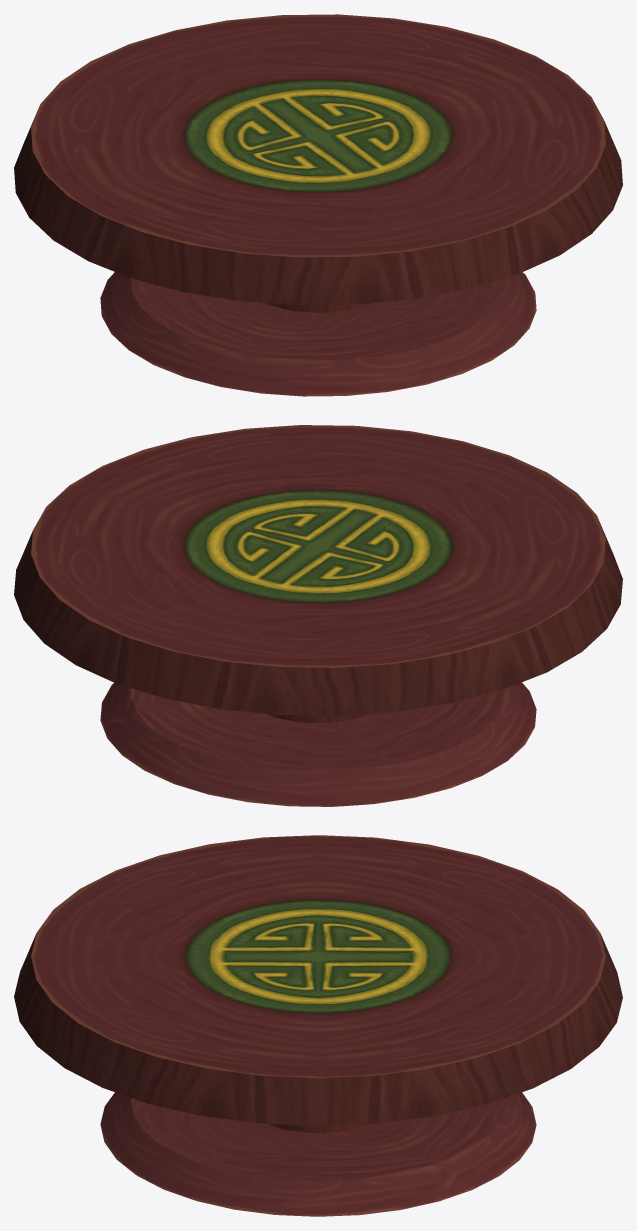
Rendered from table.glb.
The picture shows the model from 3 angles, top to bottom: view 1: azimuth 30°, elevation 25°; view 2: azimuth 150°, elevation 25°; view 3: azimuth 270°, elevation 25°; orthographic projection.
Visible parts, largest first — view 1: Table_01; view 2: Table_01; view 3: Table_01.
Boxes of the visible parts, left/top/right/bottom form: Table_01: left=14, top=14, right=622, bottom=396; Table_01: left=14, top=425, right=622, bottom=806; Table_01: left=14, top=835, right=622, bottom=1216.
Size of the model in its own units: 1.52 by 0.4618 by 1.52.
1 material, 1 textured.
